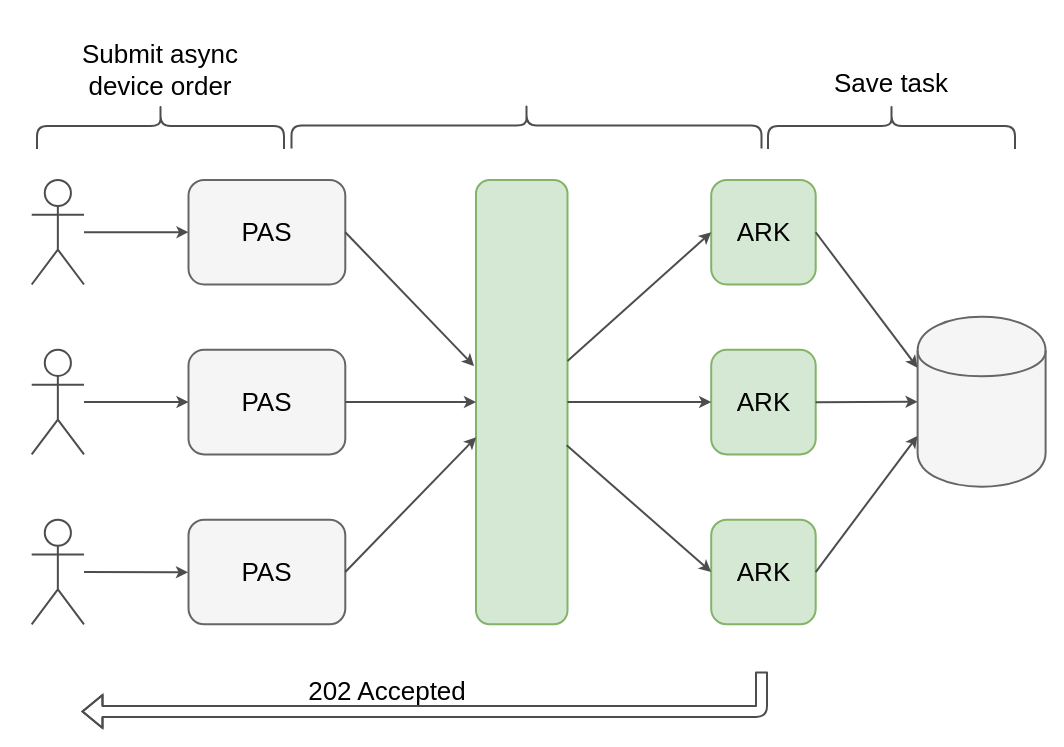
The diagram is 1064 pixels wide and 747 high, and some of its shapes have lost their labels. The centre of each missing label's shape, as x and y in pixels:
"HLB" belongs at (521,401).
"MDS" belongs at (981,401).
"Send async task" belongs at (526,125).
